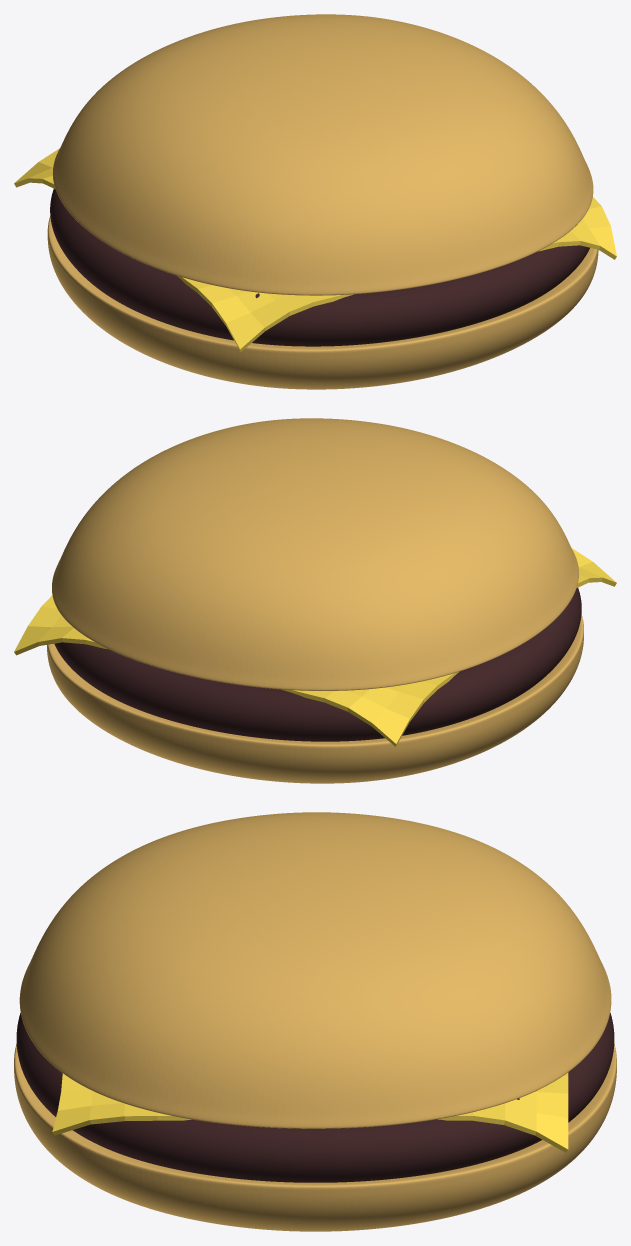
The model's file is hamburger.glb.
The picture shows the model from 3 angles, top to bottom: view 1: azimuth 30°, elevation 25°; view 2: azimuth 150°, elevation 25°; view 3: azimuth 270°, elevation 25°; orthographic projection. The views are drawn at different scales.
Visible parts, largest first — view 1: Cube.002, Cube.001, Cube, Plane; view 2: Cube.002, Cube.001, Cube, Plane; view 3: Cube.002, Cube, Cube.001, Plane.
Boxes of the visible parts, bbox=[...] form: Cube.002: bbox=[52, 14, 593, 295]; Cube.001: bbox=[50, 189, 589, 346]; Cube: bbox=[47, 216, 598, 389]; Plane: bbox=[14, 148, 616, 351]; Cube.002: bbox=[52, 418, 578, 690]; Cube.001: bbox=[54, 588, 581, 741]; Cube: bbox=[47, 615, 583, 783]; Plane: bbox=[14, 548, 616, 746]; Cube.002: bbox=[19, 812, 611, 1128]; Cube: bbox=[14, 1044, 616, 1231]; Cube.001: bbox=[16, 1013, 614, 1182]; Plane: bbox=[52, 1072, 568, 1152].
Bounding box in the file's own units: 8.81 × 4.6 × 8.81.
